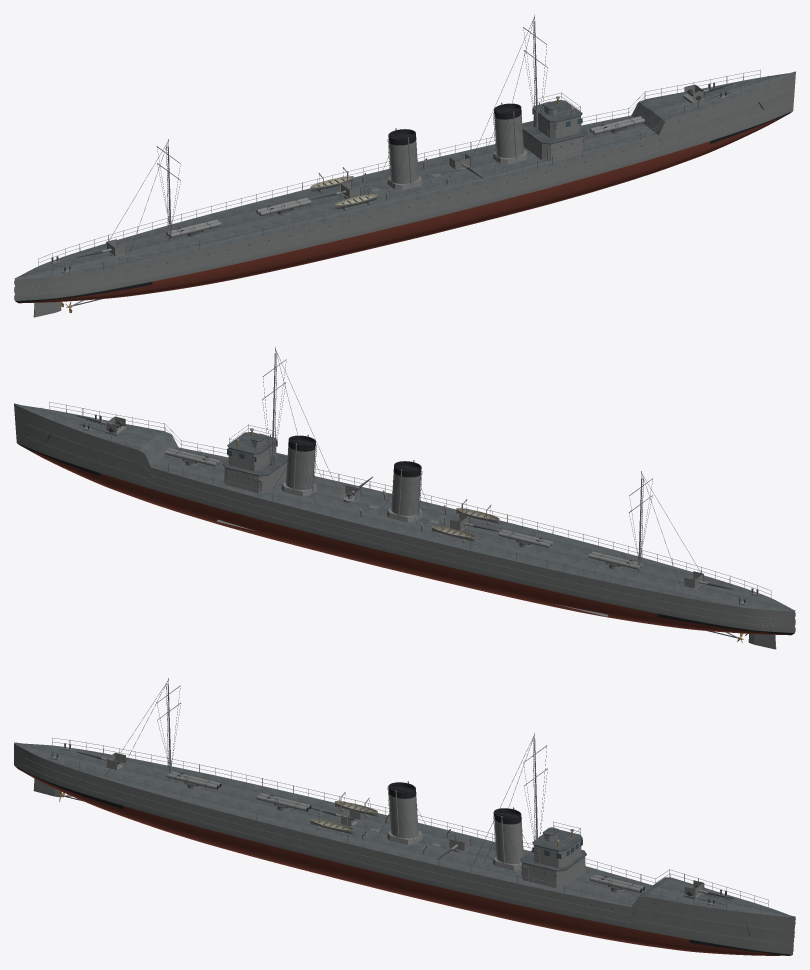
Rendered from minekaze.glb.
3 renders of one model, top to bottom at view 1: azimuth 30°, elevation 25°; view 2: azimuth 150°, elevation 25°; view 3: azimuth 330°, elevation 25°, orthographic.
Visible parts, largest first — view 1: Minekaze class; view 2: Minekaze class; view 3: Minekaze class.
Boxes of the visible parts, bbox=[...] form: Minekaze class: bbox=[14, 14, 795, 317]; Minekaze class: bbox=[14, 346, 795, 649]; Minekaze class: bbox=[14, 678, 795, 955].
Bounding box in the file's own units: 103 × 22.9 × 9.65.
9 materials, 8 textured.
